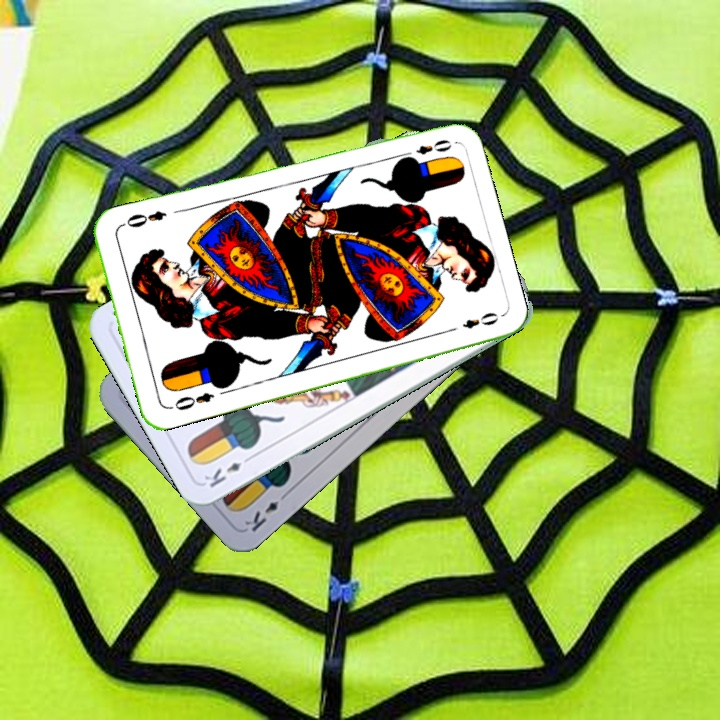EK: (240, 487, 292, 535), (200, 451, 256, 491)
EO: (397, 135, 454, 162), (164, 388, 217, 413)
